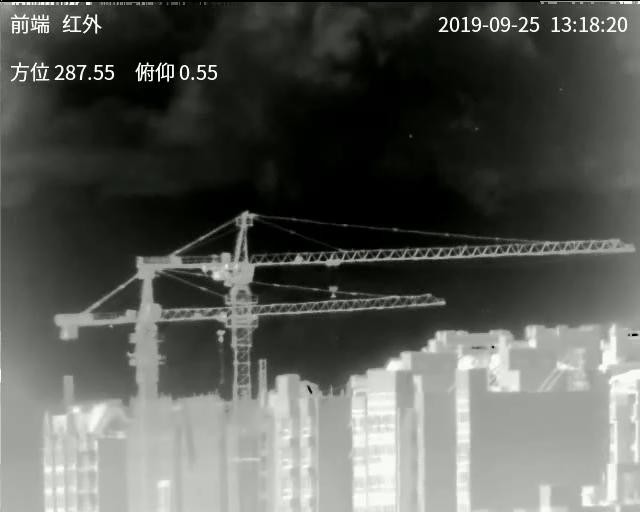uav: (201, 260, 241, 286)
